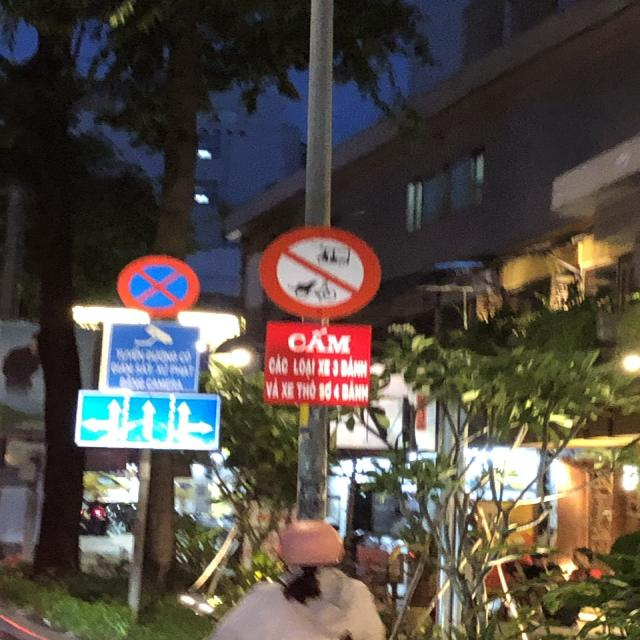Bien bao cam dung xe va do xe: (115, 248, 206, 321)
